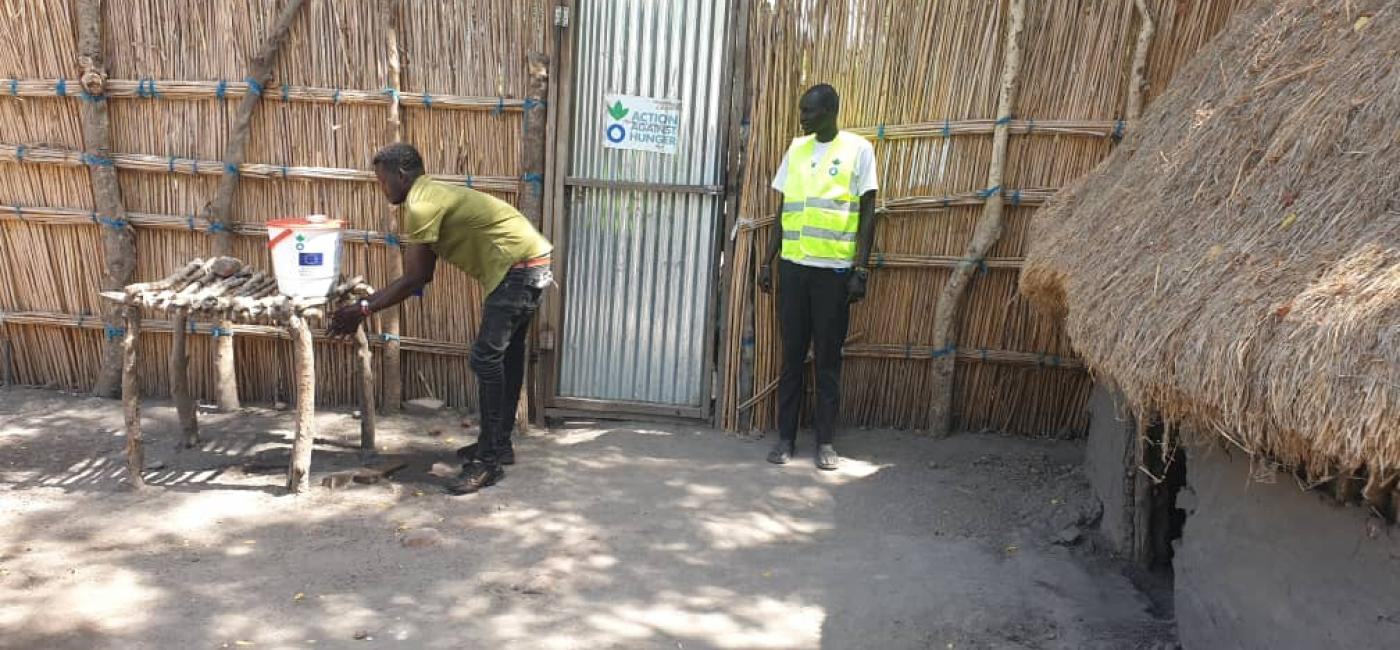Person: (321, 130, 563, 500), (741, 80, 921, 478)
